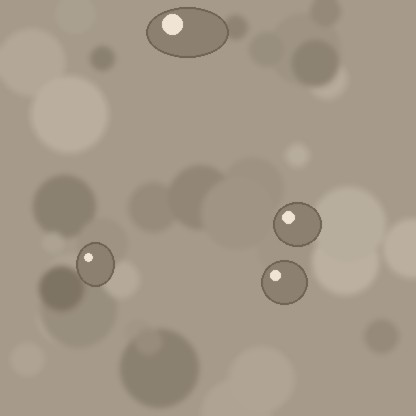gota: (146, 9, 228, 61), (273, 204, 321, 250), (261, 262, 307, 308), (76, 244, 114, 290)
